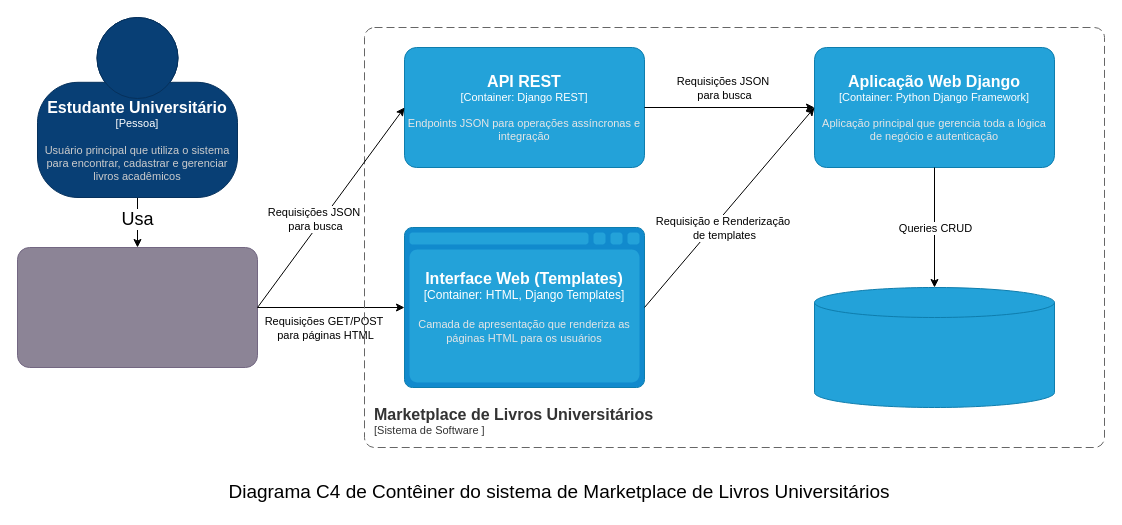
The diagram is 1122 pixels wide and 525 high, and some of its shapes have lost their labels. Here are the shapes that lost their labels. From the top down, the box of each, then its label:
(16, 246, 258, 368): Navegador Web [Sistema de Software] Interface de acesso do usuário ao sistema
(814, 286, 1054, 408): Banco de Dados [Container: SQLite] Sistema de persistência de dados
